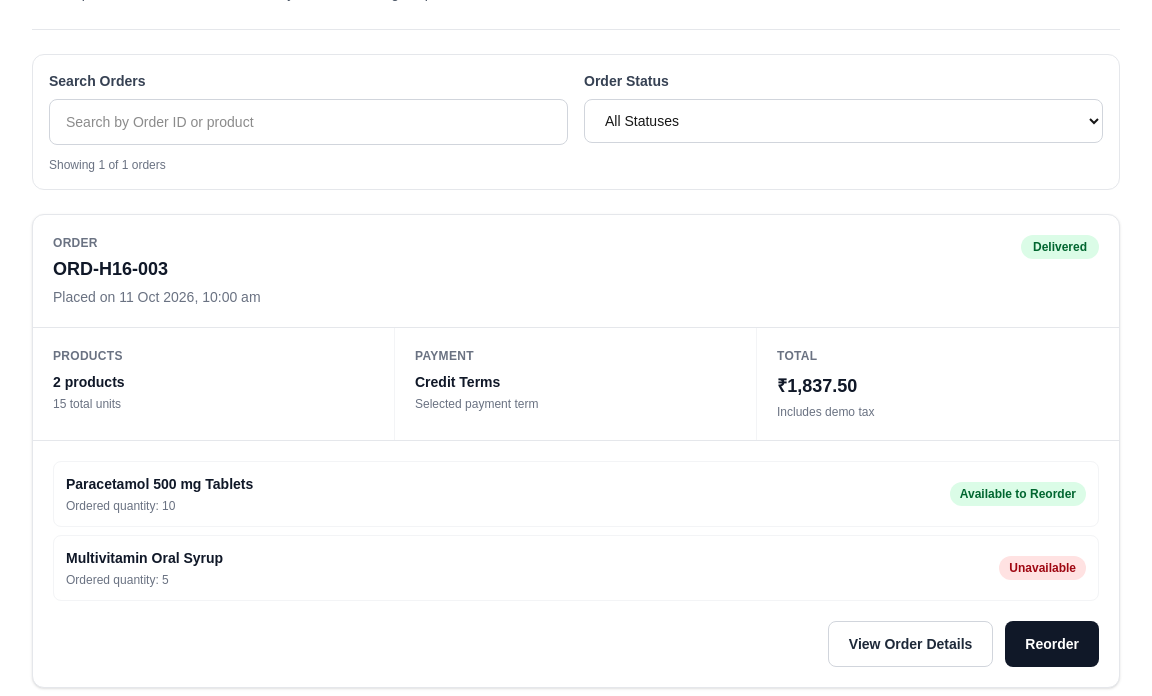
Test case: Order History and Reorder Integration › reorders eligible products and skips unavailable products
(page scrolled)
Check: the heading "ORD-H16-003" is shown, box top-left (53, 259), bottom-right (168, 279)
Step 1. Click the button "Reorder" → click(1052, 644), box top-left (1005, 621), bottom-right (1099, 667)
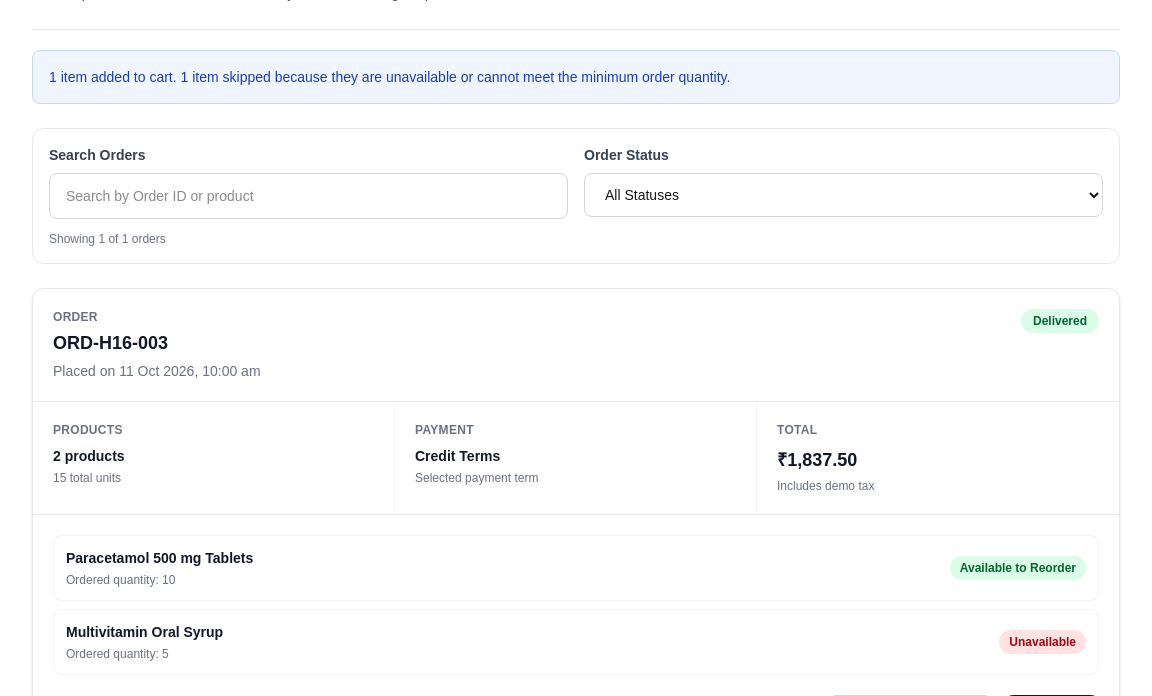
Check: the message shows "1 item added to cart.", box top-left (49, 69), bottom-right (730, 85)
Check: the message shows "1 item skipped because they are unavailable or cannot meet the minimum order quantity.", box top-left (49, 69), bottom-right (730, 85)
